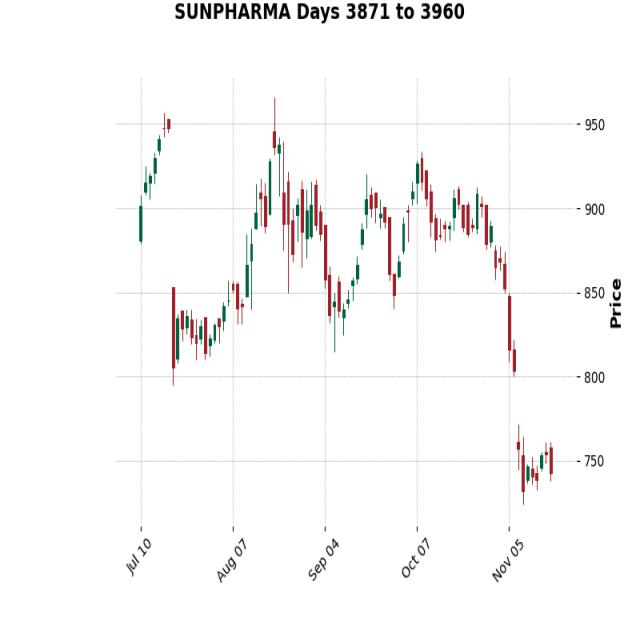Symmetric Triangle: (258, 114, 424, 347)
